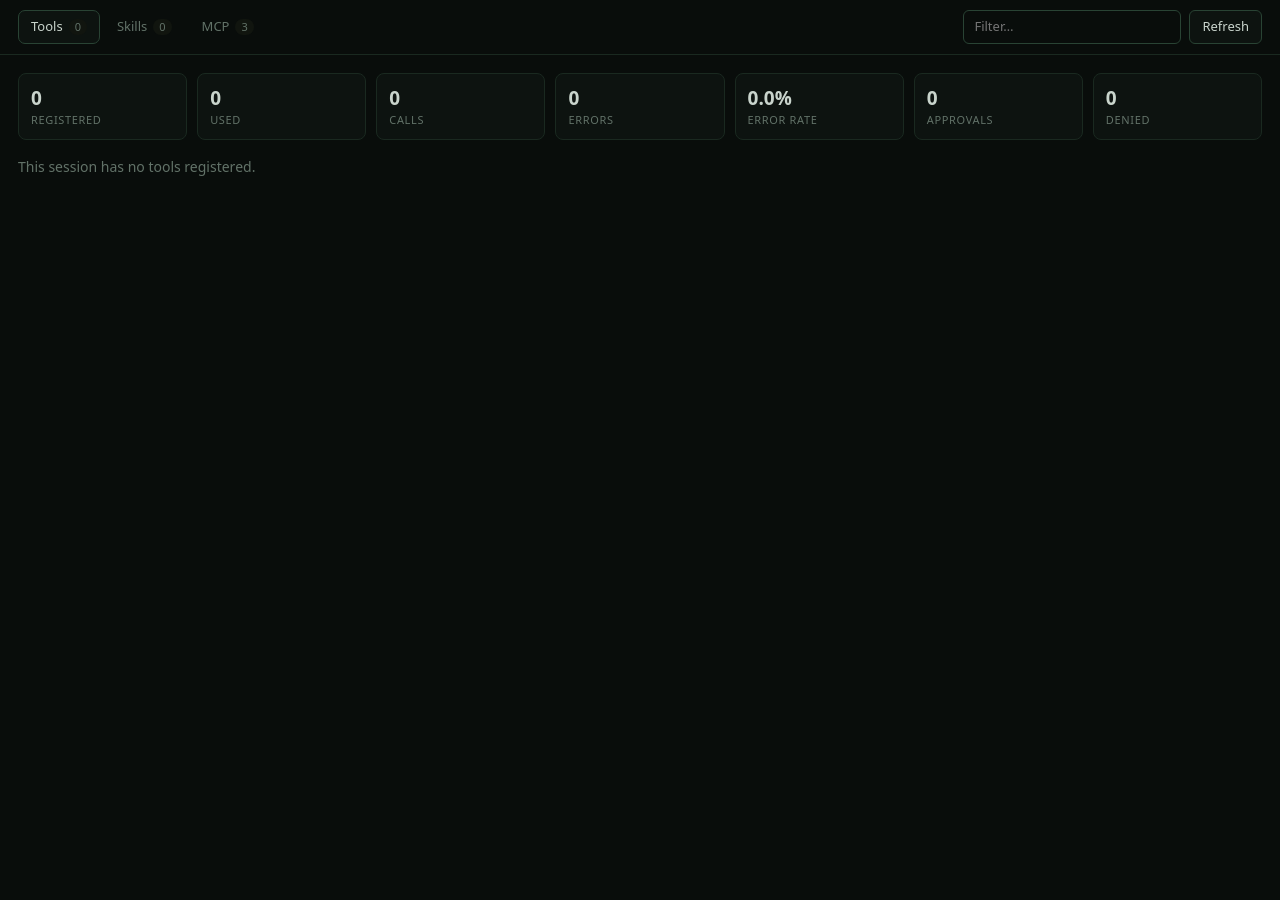
Test: ToolsPage MCP edit › closes the form on cancel
Click the button "MCP 3" at (228, 27), box [189,10,267,44]
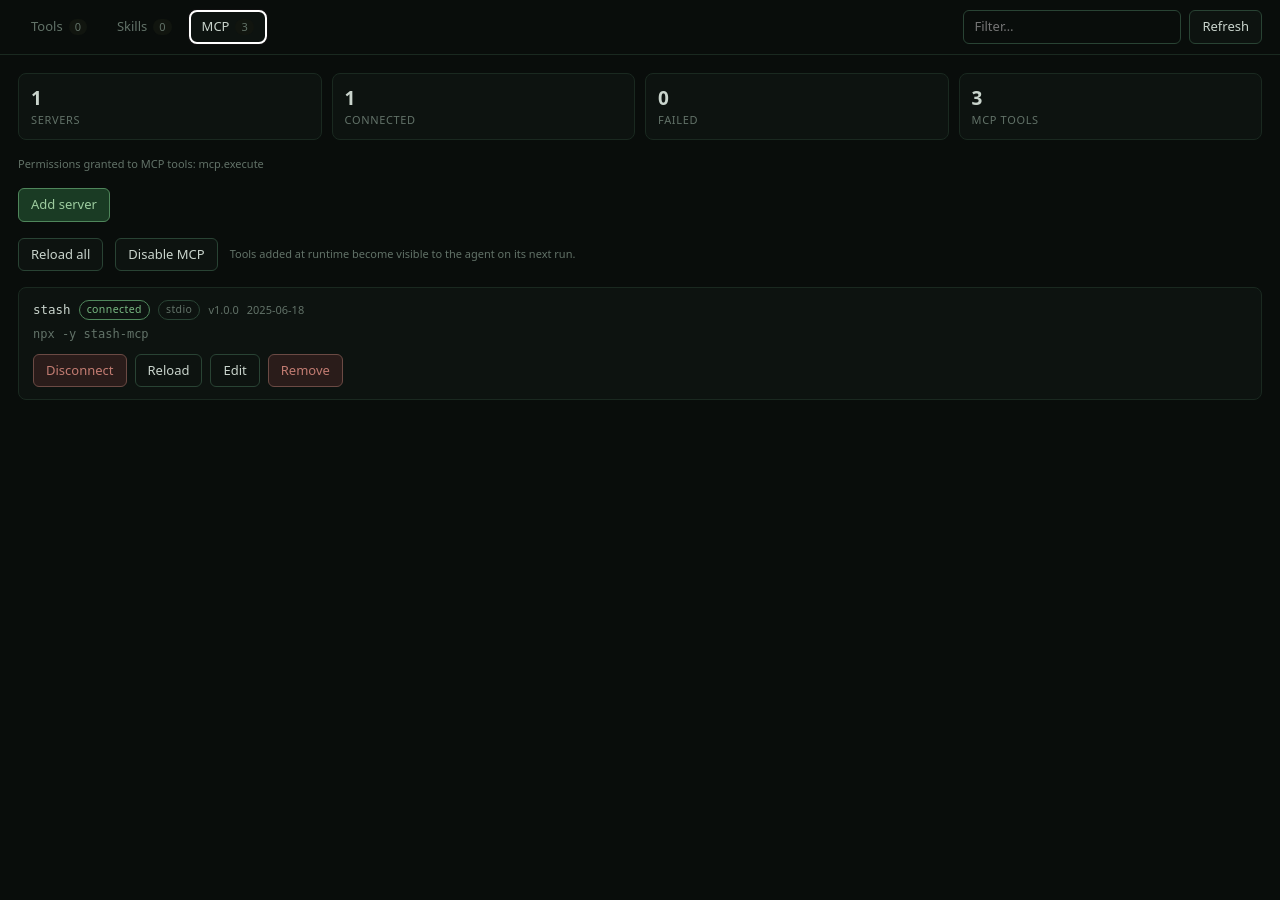
Expected: the text "stash" is shown, [33,300,71,319]
Click the button "Edit" at (235, 370), box [210,354,260,387]
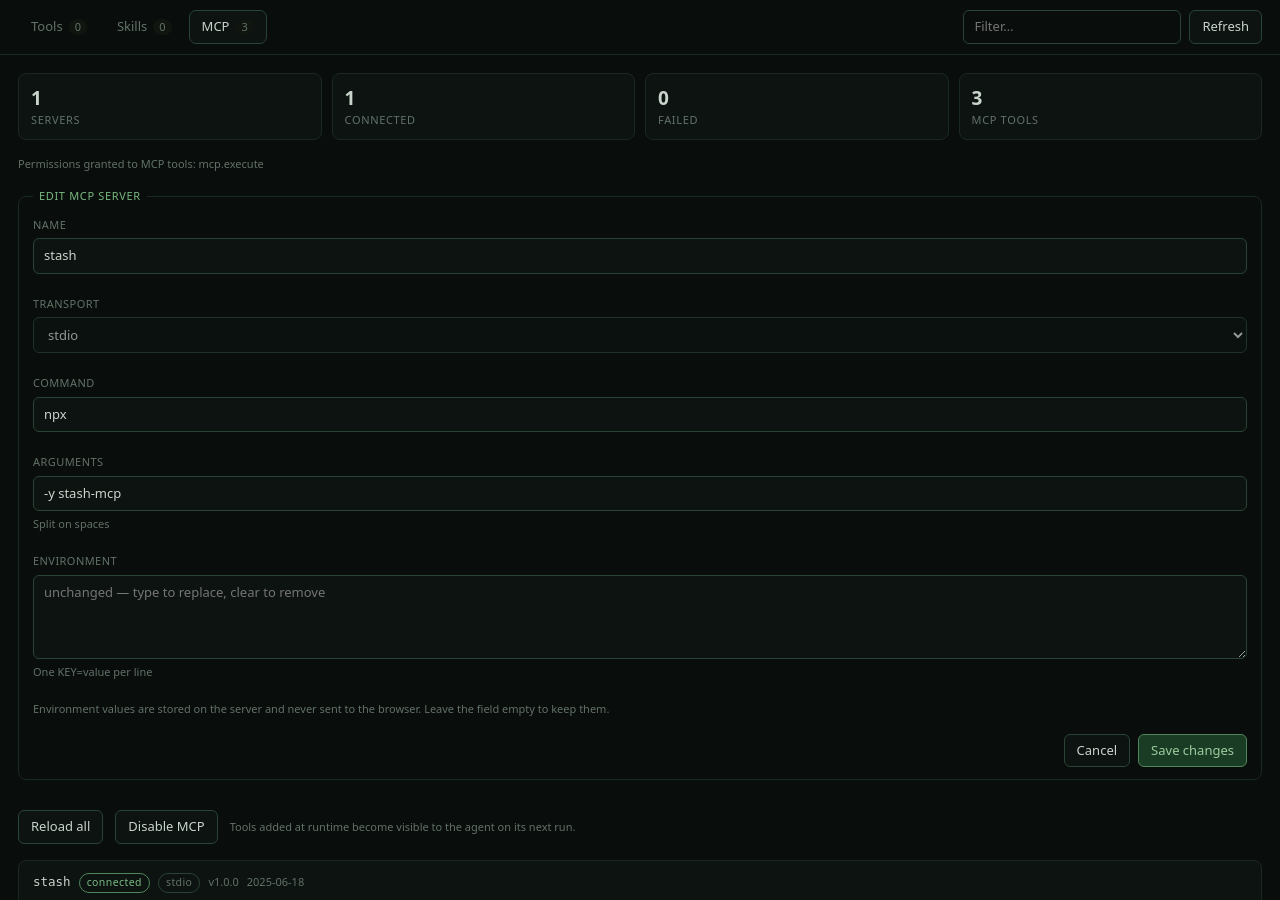
Expected: the text "Edit MCP server" is shown, [33,188,147,204]
Click the button "Cancel" at (1097, 751), box [1064,734,1130,767]
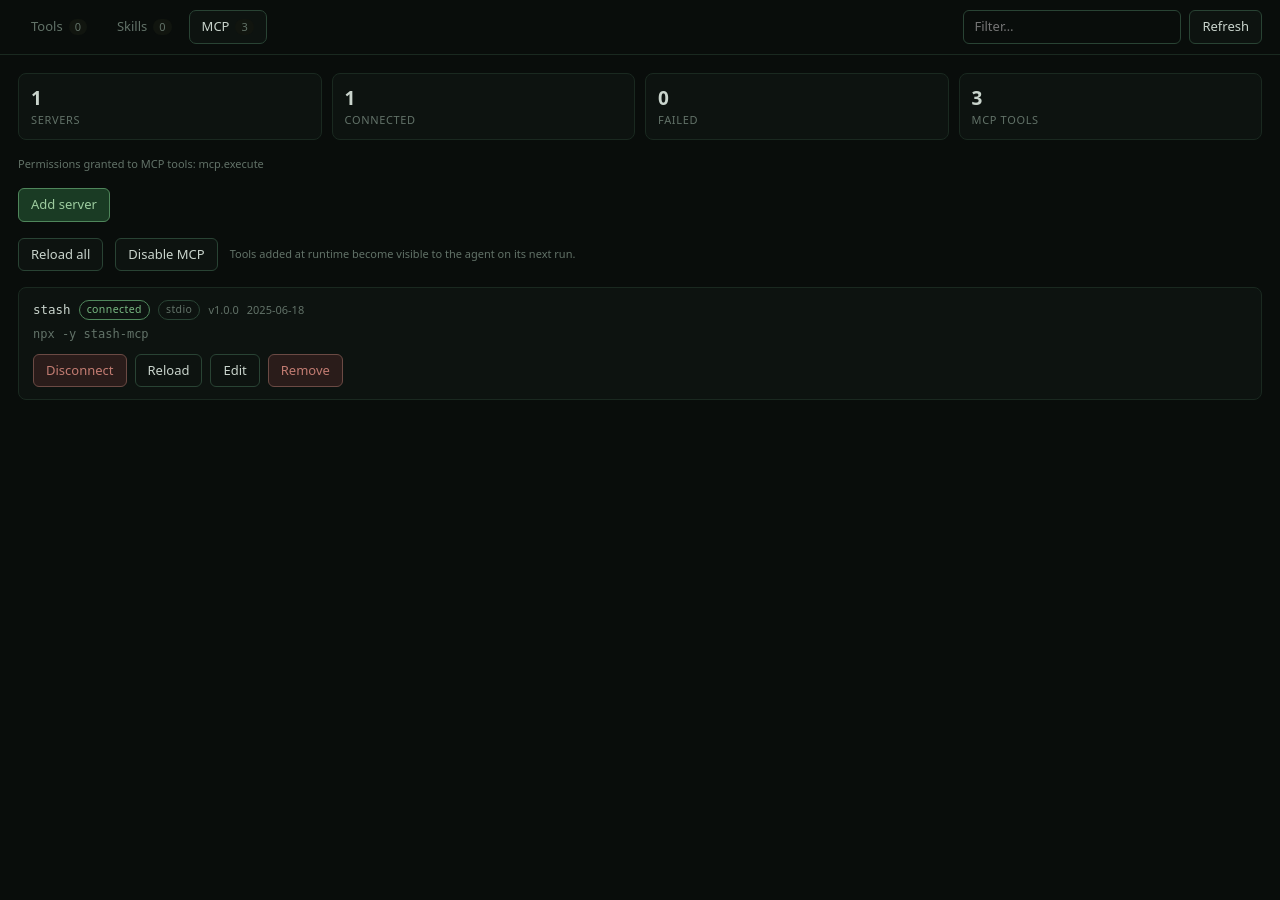
Expected: the text "Edit MCP server" is gone
Expected: the button "Add server" is shown, [18,188,110,222]
